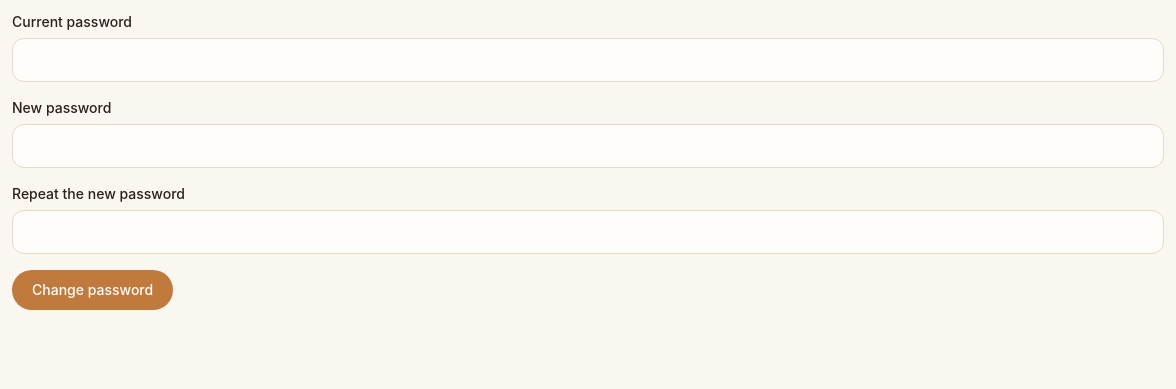
ChangePasswordForm › maps incorrect_current_password to its own copy
In the password field labelled "Current password": (588, 60) top-left (12, 38), bottom-right (1164, 82), type "old-password"
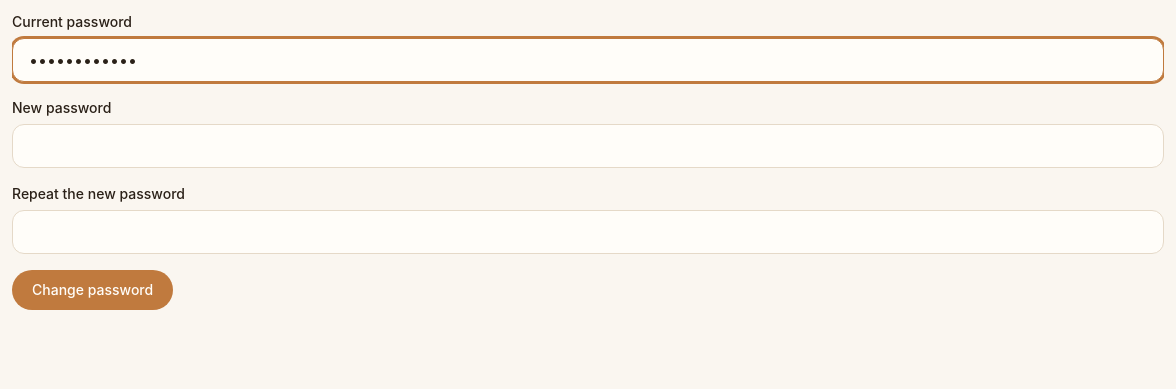
In the password field labelled "New password": (588, 146) top-left (12, 124), bottom-right (1164, 168), type "new-password-123"
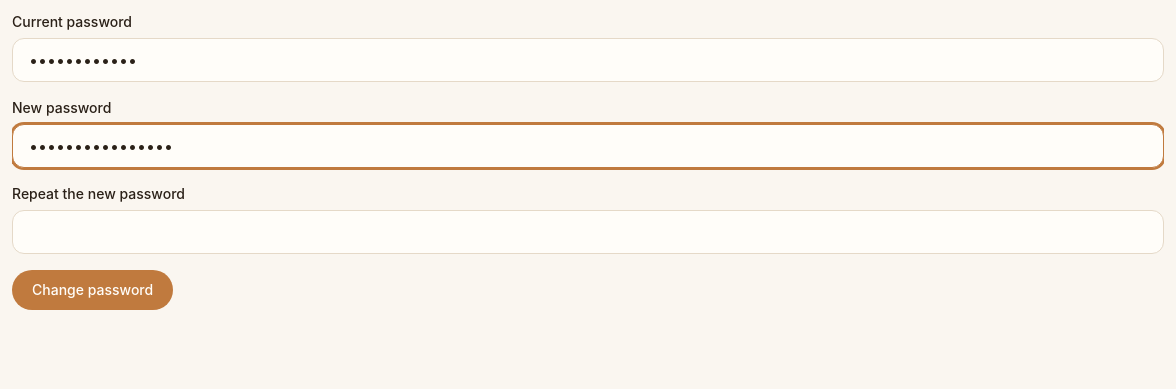
In the password field labelled "Repeat the new password": (588, 232) top-left (12, 210), bottom-right (1164, 254), type "new-password-123"
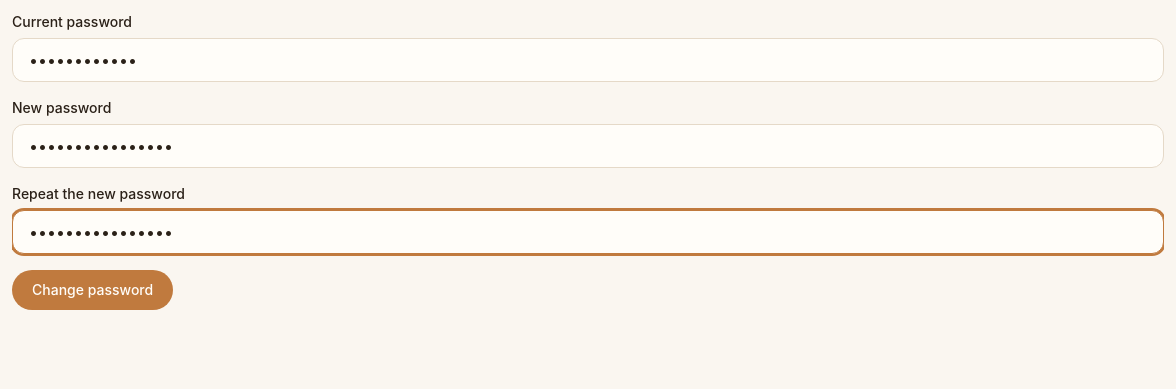
Click the button "Change password": (93, 290) top-left (12, 270), bottom-right (173, 310)
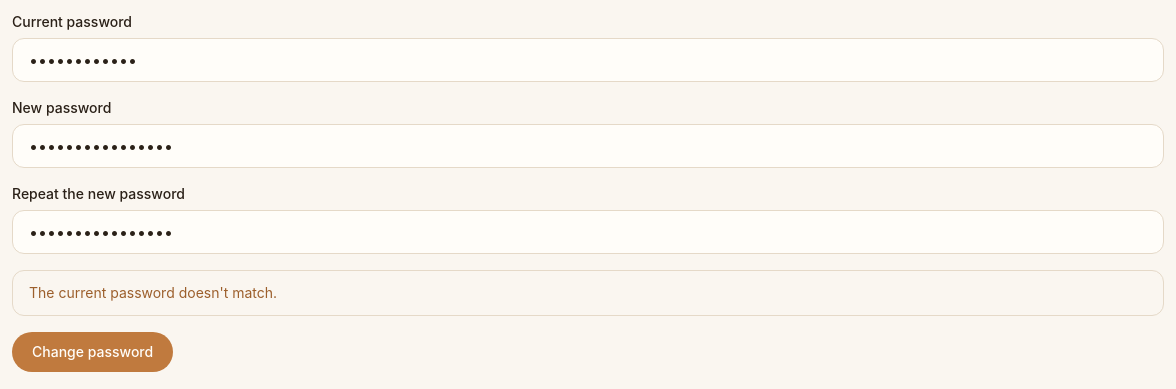
Expected: the message reads "The current password doesn't match.", top-left (29, 284), bottom-right (277, 301)
